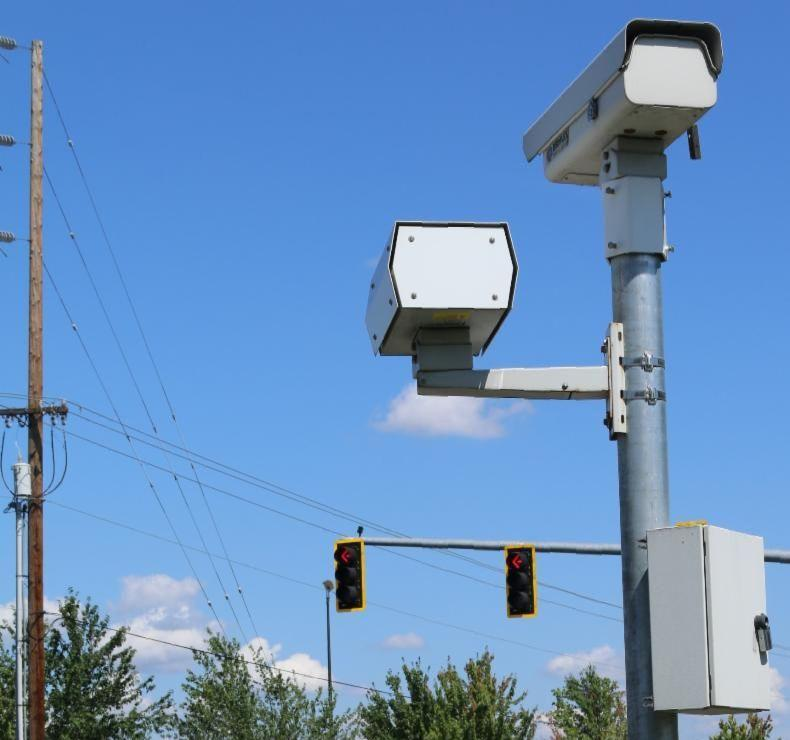Monitor: (522, 2, 744, 204), (364, 219, 518, 358)
